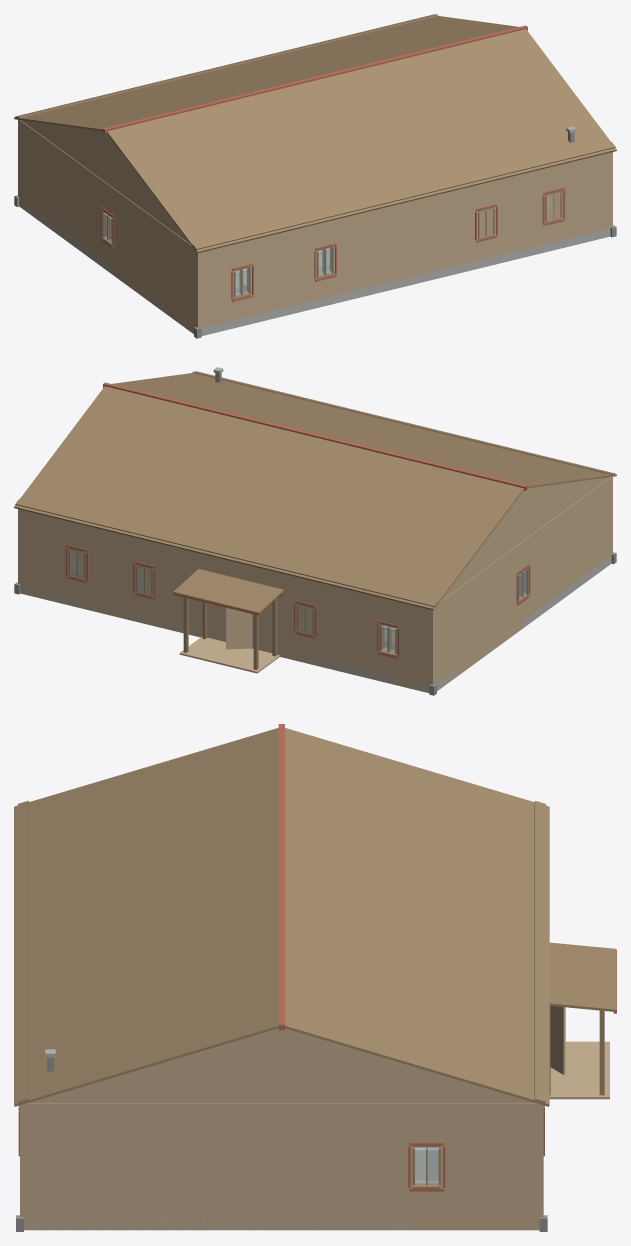
The model's file is 18-Casas_casa_mediana.glb.
3 views of the same model, one above another, from view 1: azimuth 30°, elevation 25°; view 2: azimuth 150°, elevation 25°; view 3: azimuth 270°, elevation 25° (orthographic). The views are drawn at different scales.
Visible parts, largest first — view 1: SM_Fronton_M_Casa_Acento_Casa_Paja_Clara_Casa_Paja_Oscura_Ca, SM_Fronton_M_Casa_Madera_Clara, SM_Fronton_M_Casa_Piedra_Casa_Piedra_Oscura, SM_Fronton_M_Casa_Madera_Oscura_Casa_Acento, SM_Fronton_M_Casa_Vidrio; view 2: SM_Fronton_M_Casa_Acento_Casa_Paja_Clara_Casa_Paja_Oscura_Ca, SM_Fronton_M_Casa_Madera_Clara, SM_Fronton_M_Casa_Piedra_Casa_Piedra_Oscura, SM_Fronton_M_Casa_Paja_Clara_Casa_Madera_Oscura_Casa_Acento, SM_Fronton_M_Casa_Madera_Oscura_Casa_Acento, SM_Fronton_M_Casa_Madera_Oscura, SM_Fronton_M_Casa_Vidrio; view 3: SM_Fronton_M_Casa_Acento_Casa_Paja_Clara_Casa_Paja_Oscura_Ca, SM_Fronton_M_Casa_Madera_Clara, SM_Fronton_M_Casa_Paja_Clara_Casa_Madera_Oscura_Casa_Acento, SM_Fronton_M_Casa_Piedra_Casa_Piedra_Oscura, SM_Fronton_M_Casa_Madera_Oscura_Casa_Acento, SM_Fronton_M_Casa_Madera_Oscura, SM_Fronton_M_Casa_Vidrio.
Part boxes in pixels (x1,y1,x2,y2): SM_Fronton_M_Casa_Acento_Casa_Paja_Clara_Casa_Paja_Oscura_Ca: (14, 14, 616, 253); SM_Fronton_M_Casa_Madera_Clara: (18, 119, 612, 333); SM_Fronton_M_Casa_Piedra_Casa_Piedra_Oscura: (14, 195, 616, 338); SM_Fronton_M_Casa_Madera_Oscura_Casa_Acento: (100, 188, 565, 301); SM_Fronton_M_Casa_Vidrio: (104, 196, 552, 295); SM_Fronton_M_Casa_Acento_Casa_Paja_Clara_Casa_Paja_Oscura_Ca: (14, 371, 616, 610); SM_Fronton_M_Casa_Madera_Clara: (18, 477, 612, 692); SM_Fronton_M_Casa_Piedra_Casa_Piedra_Oscura: (14, 552, 616, 695); SM_Fronton_M_Casa_Paja_Clara_Casa_Madera_Oscura_Casa_Acento: (173, 569, 283, 615); SM_Fronton_M_Casa_Madera_Oscura_Casa_Acento: (65, 545, 530, 659); SM_Fronton_M_Casa_Madera_Oscura: (183, 597, 395, 669); SM_Fronton_M_Casa_Vidrio: (70, 551, 526, 652); SM_Fronton_M_Casa_Acento_Casa_Paja_Clara_Casa_Paja_Oscura_Ca: (14, 724, 549, 1106); SM_Fronton_M_Casa_Madera_Clara: (20, 1006, 609, 1230); SM_Fronton_M_Casa_Paja_Clara_Casa_Madera_Oscura_Casa_Acento: (549, 942, 616, 1013); SM_Fronton_M_Casa_Piedra_Casa_Piedra_Oscura: (16, 1215, 547, 1231); SM_Fronton_M_Casa_Madera_Oscura_Casa_Acento: (18, 1105, 544, 1191); SM_Fronton_M_Casa_Madera_Oscura: (428, 1006, 604, 1182); SM_Fronton_M_Casa_Vidrio: (415, 1147, 438, 1183).
Bounding box in the file's own units: 16.3 × 5.27 × 13.82.
